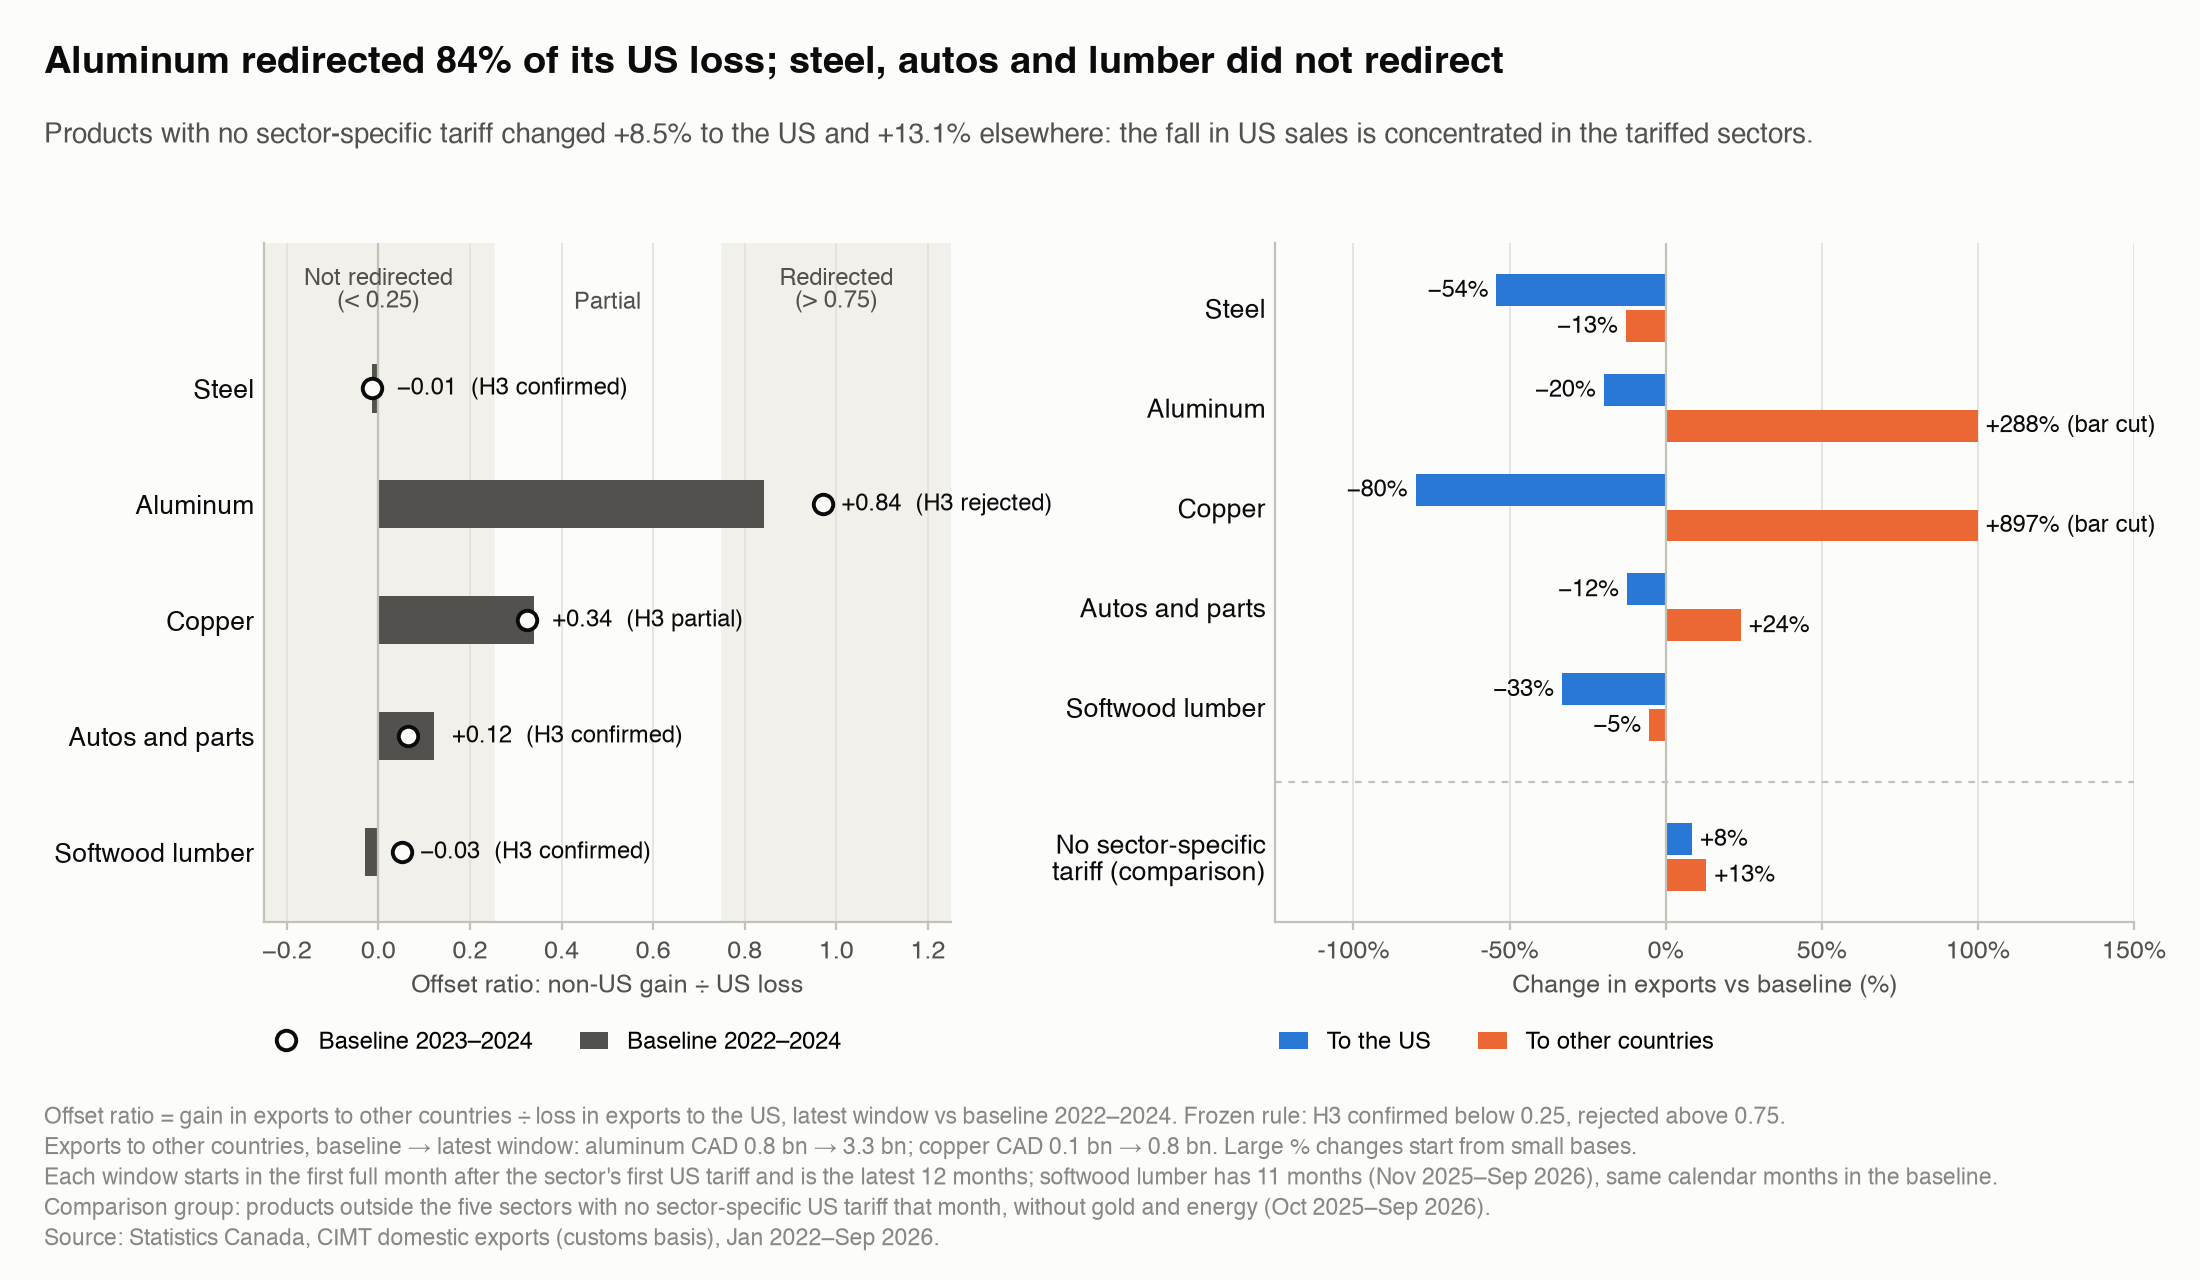

The dashboard page shown, as its layout file describes it:
{"tool":"tableau","page":{"name":"Dashboard 1","canvas":[1200,1100],"ordinal":0},"visuals":[{"type":"text","box":[8,8,1024,136.1]},{"type":"legend","title":"US share","param":"[federated.1l8uwtw09xxetc16wgawx07von9a].[none:variant:nk]","box":[1032,8,160,48]},{"type":"legend","title":"Exposure","param":"[federated.10tj5r4114s4ze15slgbk1yy4h5a].[:Measure Names]","box":[1032,56,160,48]},{"type":"worksheet","title":"Waterfall","mark":"GanttBar","rows":["bar_start"],"cols":["label"],"box":[8,144.1,491,405.9]},{"type":"worksheet","title":"US share","mark":"Automatic","rows":["us_share_12m"],"cols":["month"],"box":[499,144.1,533,405.9]},{"type":"worksheet","title":"Redirection","mark":"Automatic","rows":["sector_group"],"cols":["offset_ratio"],"box":[8,550,591,467]},{"type":"worksheet","title":"Exposure","mark":"Circle","rows":["sector_group"],"box":[599,550,593,467]},{"type":"text","box":[8,1017,1184,75]}]}

Visuals, with their boxes on the page's 1200x1100 design canvas (x1, y1, x2, y2). These are canvas units, not pixel positions in the 2200x1280 screenshot, which may show the page scaled, cropped or inside an application window:
text: bbox=[8, 8, 1032, 144]
"US share" legend: bbox=[1032, 8, 1192, 56]
"Exposure" legend: bbox=[1032, 56, 1192, 104]
"Waterfall" worksheet (GanttBar marks): bbox=[8, 144, 499, 550]
"US share" worksheet: bbox=[499, 144, 1032, 550]
"Redirection" worksheet: bbox=[8, 550, 599, 1017]
"Exposure" worksheet (Circle marks): bbox=[599, 550, 1192, 1017]
text: bbox=[8, 1017, 1192, 1092]
